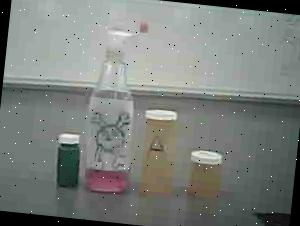Bottle A: (132, 102, 188, 202)
Bottle B: (179, 143, 236, 217)
Bottle C: (48, 128, 86, 192)
hazard: (72, 12, 153, 197)
